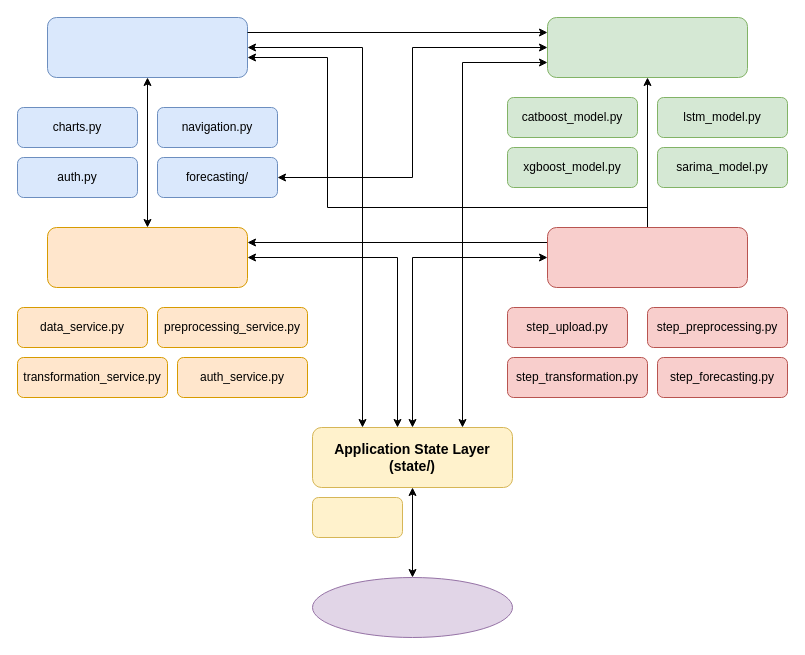
This 805x655 diagram has some shape labels left out. Each missing label, with the centre of its shape:
"Business Logic Layer (services/)" belongs at (x=147, y=257).
"Models Layer (models/)" belongs at (x=647, y=47).
"Presentation Layer (components/)" belongs at (x=147, y=47).
"session.py" belongs at (x=357, y=517).
"Supabase (Authentication & Storage)" belongs at (x=412, y=607).
"Workflow Layer (steps/)" belongs at (x=647, y=257).
